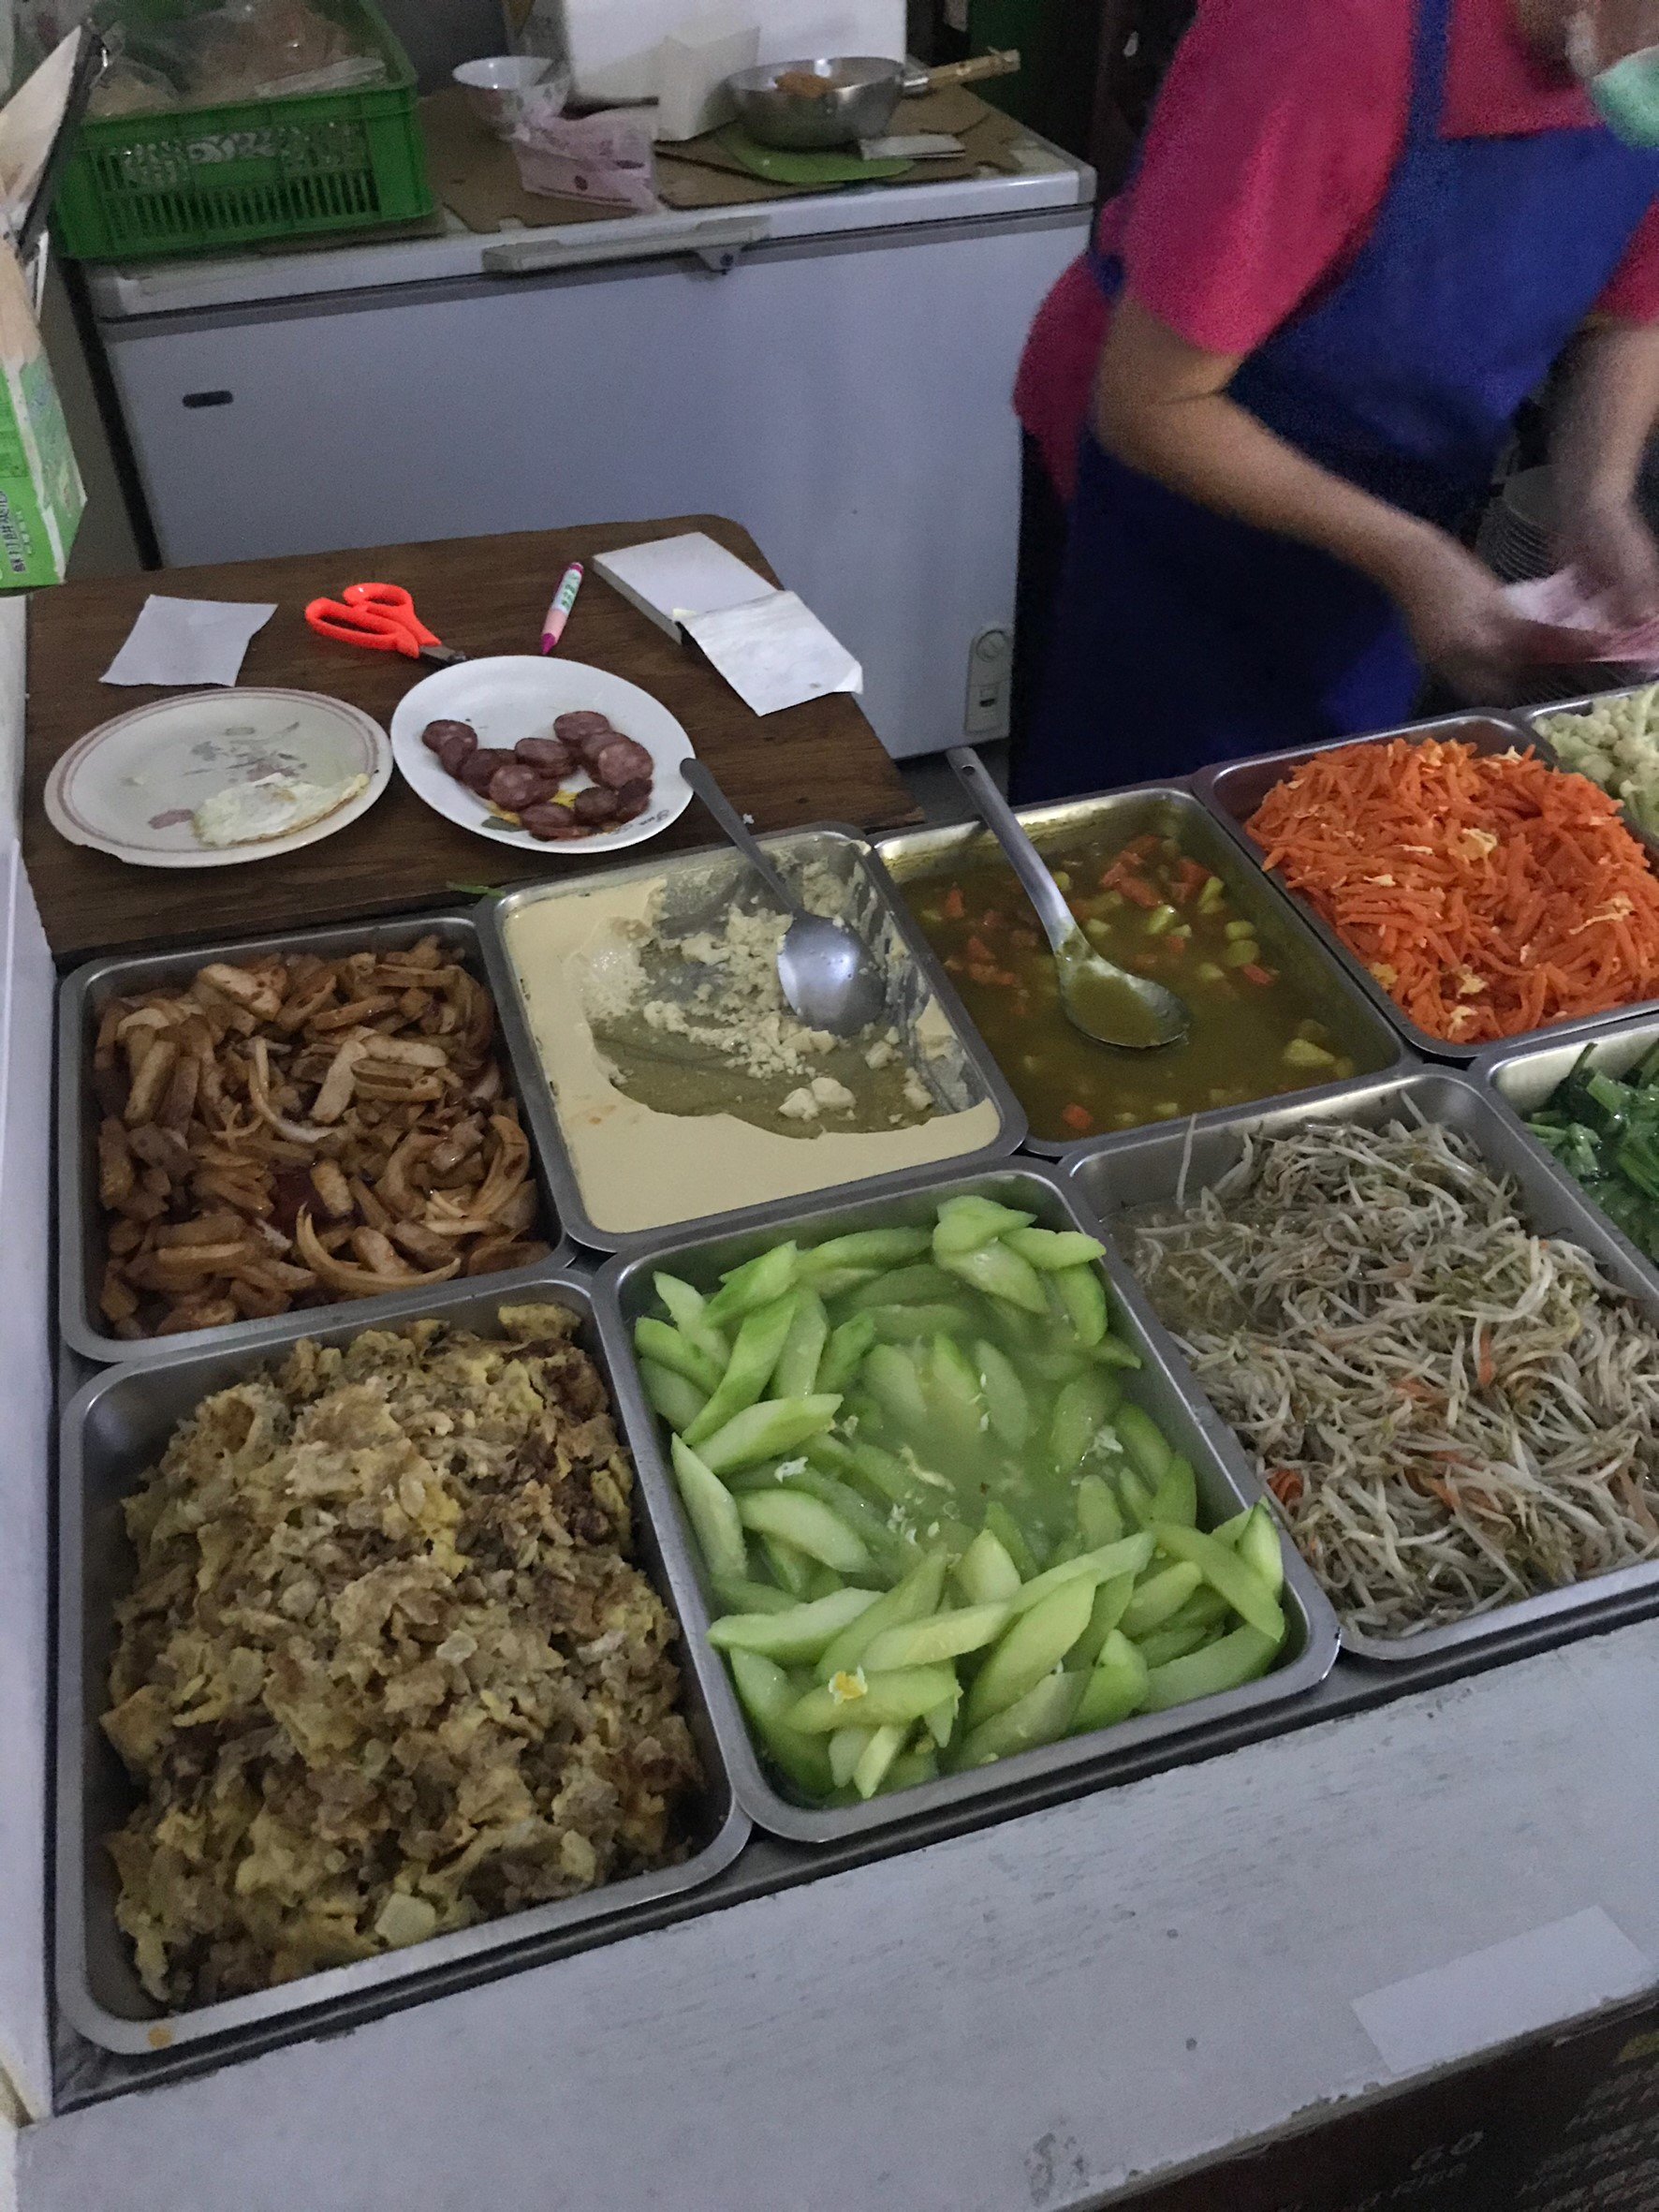carrot_eggs: (1338, 753, 1659, 1028)
chinese_sausage: (429, 697, 636, 830)
curry: (915, 859, 1333, 1110)
fried_eggs: (192, 770, 361, 849)
mung_bean_sprouts: (1194, 1140, 1640, 1595)
